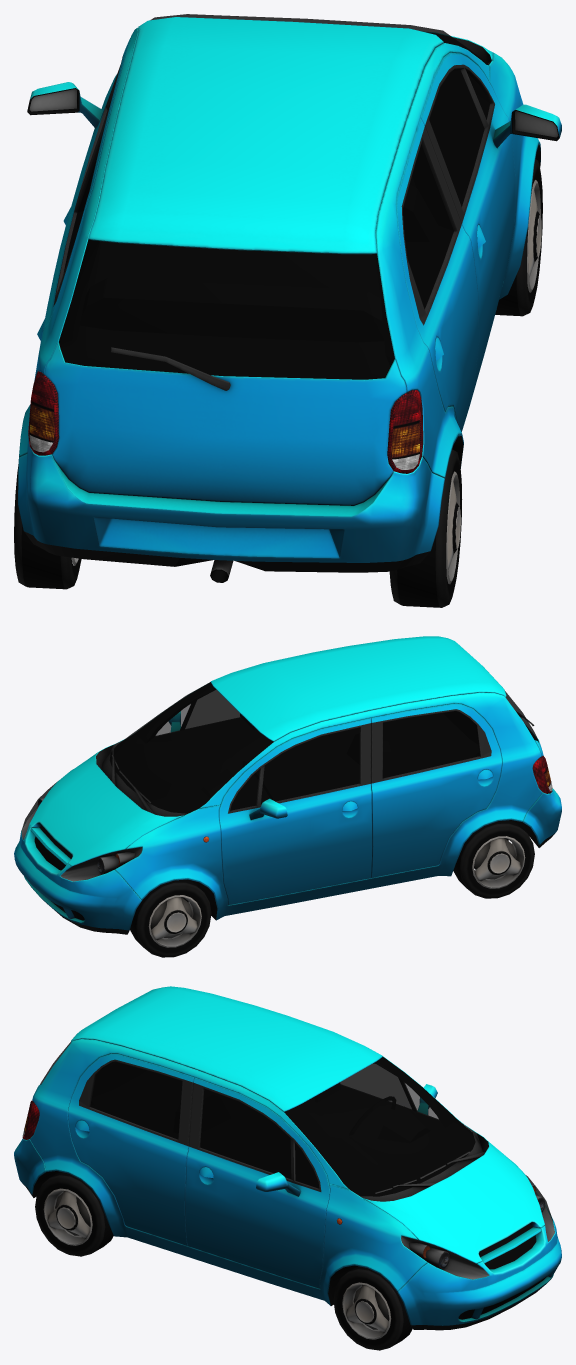
The model's file is citycar.glb.
The picture shows the model from 3 angles, top to bottom: view 1: azimuth 30°, elevation 25°; view 2: azimuth 150°, elevation 25°; view 3: azimuth 270°, elevation 25°; orthographic projection. The views are drawn at different scales.
Visible parts, largest first — view 1: Compact Body, Wheel_C002, Wheel_C003, Wheel_C001; view 2: Compact Body, Wheel_C, Wheel_C001; view 3: Compact Body, Wheel_C003, Wheel_C002.
Part boxes in pixels (<box>): Compact Body: <box>18,14,561,582</box>; Wheel_C002: <box>389,449,462,607</box>; Wheel_C003: <box>495,159,542,316</box>; Wheel_C001: <box>14,464,81,589</box>; Compact Body: <box>14,636,561,934</box>; Wheel_C: <box>130,879,211,957</box>; Wheel_C001: <box>453,820,534,898</box>; Compact Body: <box>14,986,561,1330</box>; Wheel_C003: <box>333,1266,412,1350</box>; Wheel_C002: <box>35,1172,113,1256</box>.
Bounding box in the file's own units: 2.65 × 1.32 × 3.07.
Materials: 4 (3 with a texture image).
